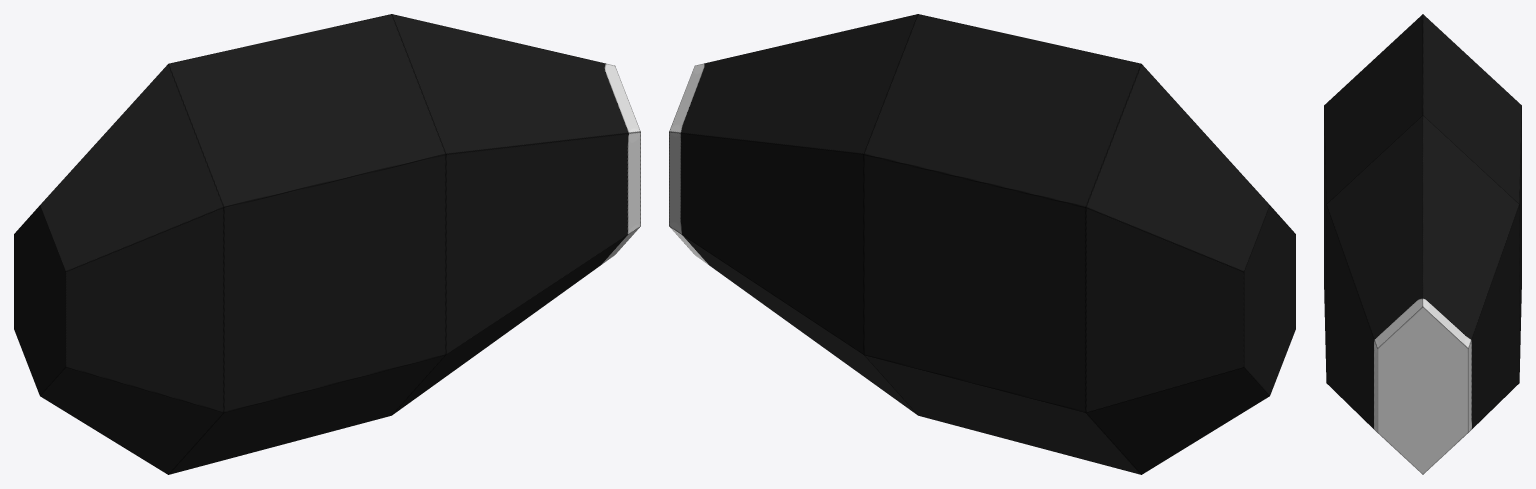
Rendered from Projectile.fbx.
3 views of the same model, side by side, from view 1: azimuth 30°, elevation 25°; view 2: azimuth 150°, elevation 25°; view 3: azimuth 270°, elevation 25° (orthographic). The views are drawn at different scales.
Visible parts, largest first — view 1: Projectile; view 2: Projectile; view 3: Projectile.
Part boxes in pixels (x1=…): Projectile: x1=14, y1=14, x2=640, y2=474; Projectile: x1=669, y1=14, x2=1295, y2=474; Projectile: x1=1324, y1=14, x2=1521, y2=474.
Size of the model in its own units: 0.3875 by 0.2647 by 0.1297.
1 material, 1 textured.
